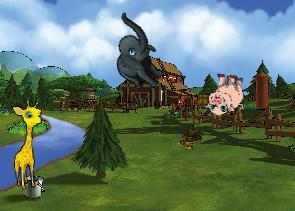elephant: (92, 11, 181, 97)
giraffe: (11, 99, 46, 190)
pig: (204, 71, 247, 117)
